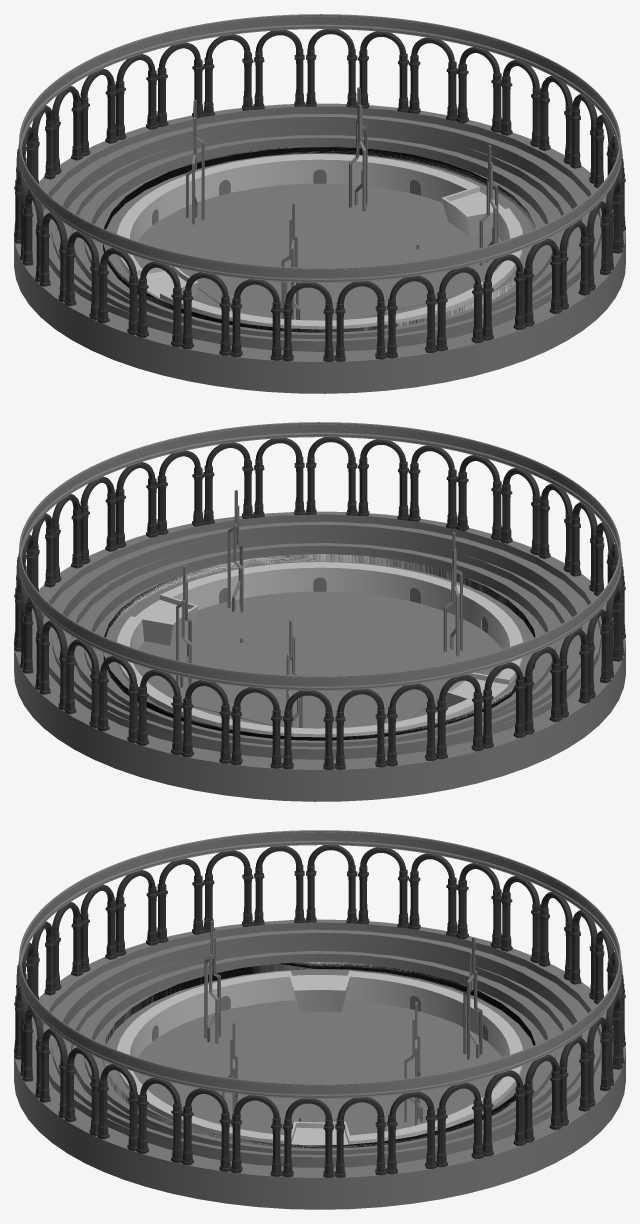
File: Map_Complete.fbx
3 renders of one model, top to bottom at view 1: azimuth 30°, elevation 25°; view 2: azimuth 150°, elevation 25°; view 3: azimuth 270°, elevation 25°, orthographic.
Parts seen in each view (by area): view 1: Object_2, Arena_square, Arches, Inner_and_platforms, Object_117, Object_115, Crowd_large, Ancilliary Ground, Object_118, Crowd_mid, Crowd_small, Object_116 (+38 smaller); view 2: Object_2, Arena_square, Arches, Inner_and_platforms, Object_117, Object_115, Crowd_large, Ancilliary Ground, Object_118, Crowd_mid, Crowd_small, Object_119 (+38 smaller); view 3: Object_2, Arena_square, Arches, Inner_and_platforms, Object_117, Object_115, Ancilliary Ground, Crowd_large, Object_118, Crowd_mid, Crowd_small, Object_119 (+38 smaller).
Boxes of the visible parts, x1,y1,x2,y2 form: Object_2: (14,103,625,393); Arena_square: (139,185,486,320); Arches: (18,14,621,282); Inner_and_platforms: (117,154,523,329); Object_117: (51,114,587,344); Object_115: (84,135,555,337); Crowd_large: (42,106,601,351); Ancilliary Ground: (133,183,502,317); Object_118: (32,114,613,357); Crowd_mid: (71,128,568,338); Crowd_small: (103,146,535,332); Object_116: (57,135,581,307); Object_2: (14,511,625,801); Arena_square: (149,593,500,728); Arches: (18,422,621,690); Inner_and_platforms: (117,562,523,737); Object_117: (51,522,587,752); Object_115: (84,543,555,745); Crowd_large: (42,514,601,759); Ancilliary Ground: (133,591,502,725); Object_118: (32,521,613,765); Crowd_mid: (71,535,568,746); Crowd_small: (103,554,535,740); Object_119: (91,561,549,715); Object_2: (14,919,625,1209); Arena_square: (185,1022,454,1135); Arches: (18,830,621,1098); Inner_and_platforms: (117,971,523,1145); Object_117: (51,930,587,1160); Object_115: (84,951,555,1153); Ancilliary Ground: (133,1000,502,1112); Crowd_large: (42,922,601,1167); Object_118: (32,929,613,1173); Crowd_mid: (71,943,567,1154); Crowd_small: (102,962,535,1148); Object_119: (91,969,549,1121).
Bounding box in the file's own units: 227 × 50.56 × 227.
